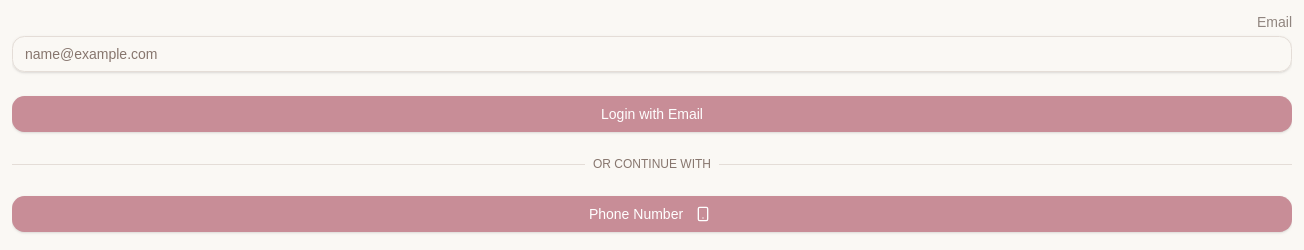
Test: storefront login form: email step › requests an email OTP and moves to the verification step
The width and height of the screenshot is (1304, 250).
Type "buyer@example.com" into the field with placeholder "name@example.com" at (652, 54), box [12,36,1292,72]
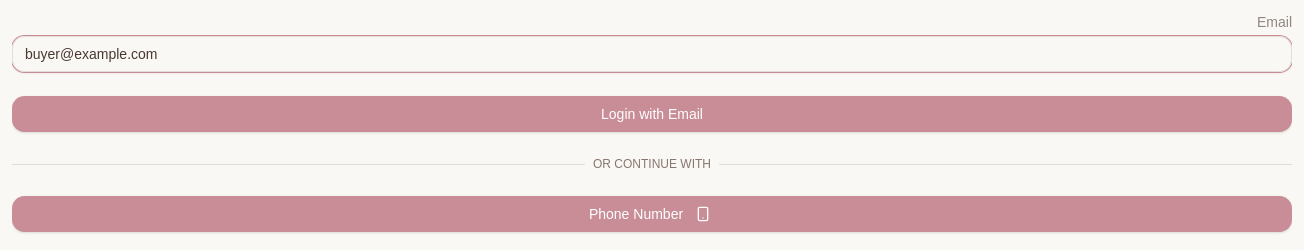
Click the button "Login with Email" at (652, 114), box [12,96,1292,132]
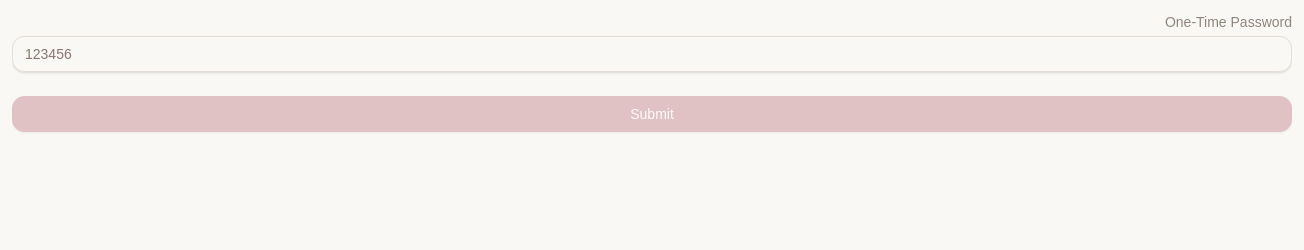
Check: the text "One-Time Password" is shown, box [1165,14,1292,30]
